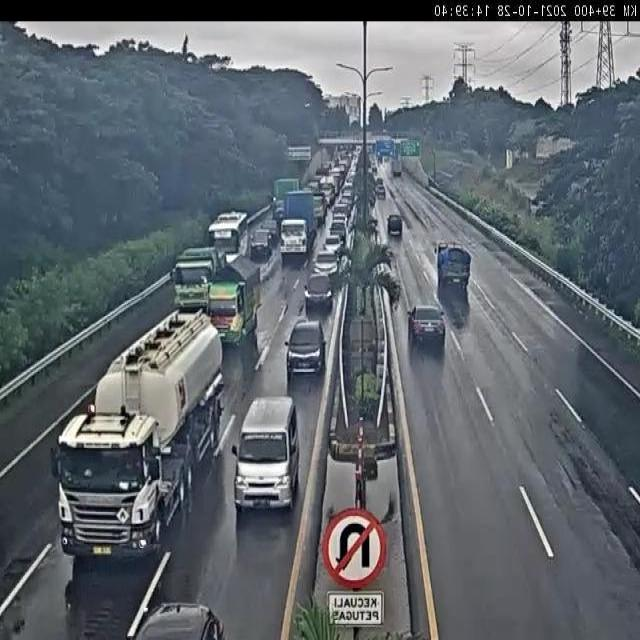Car: (281, 317, 331, 380), (409, 300, 447, 350), (302, 273, 334, 314), (312, 250, 339, 284), (384, 206, 405, 244), (318, 230, 342, 258)
Truck: (56, 327, 229, 560), (212, 182, 284, 282), (206, 270, 262, 343), (168, 243, 218, 313), (276, 191, 314, 261), (432, 241, 474, 291)
Van: (228, 396, 304, 513)
